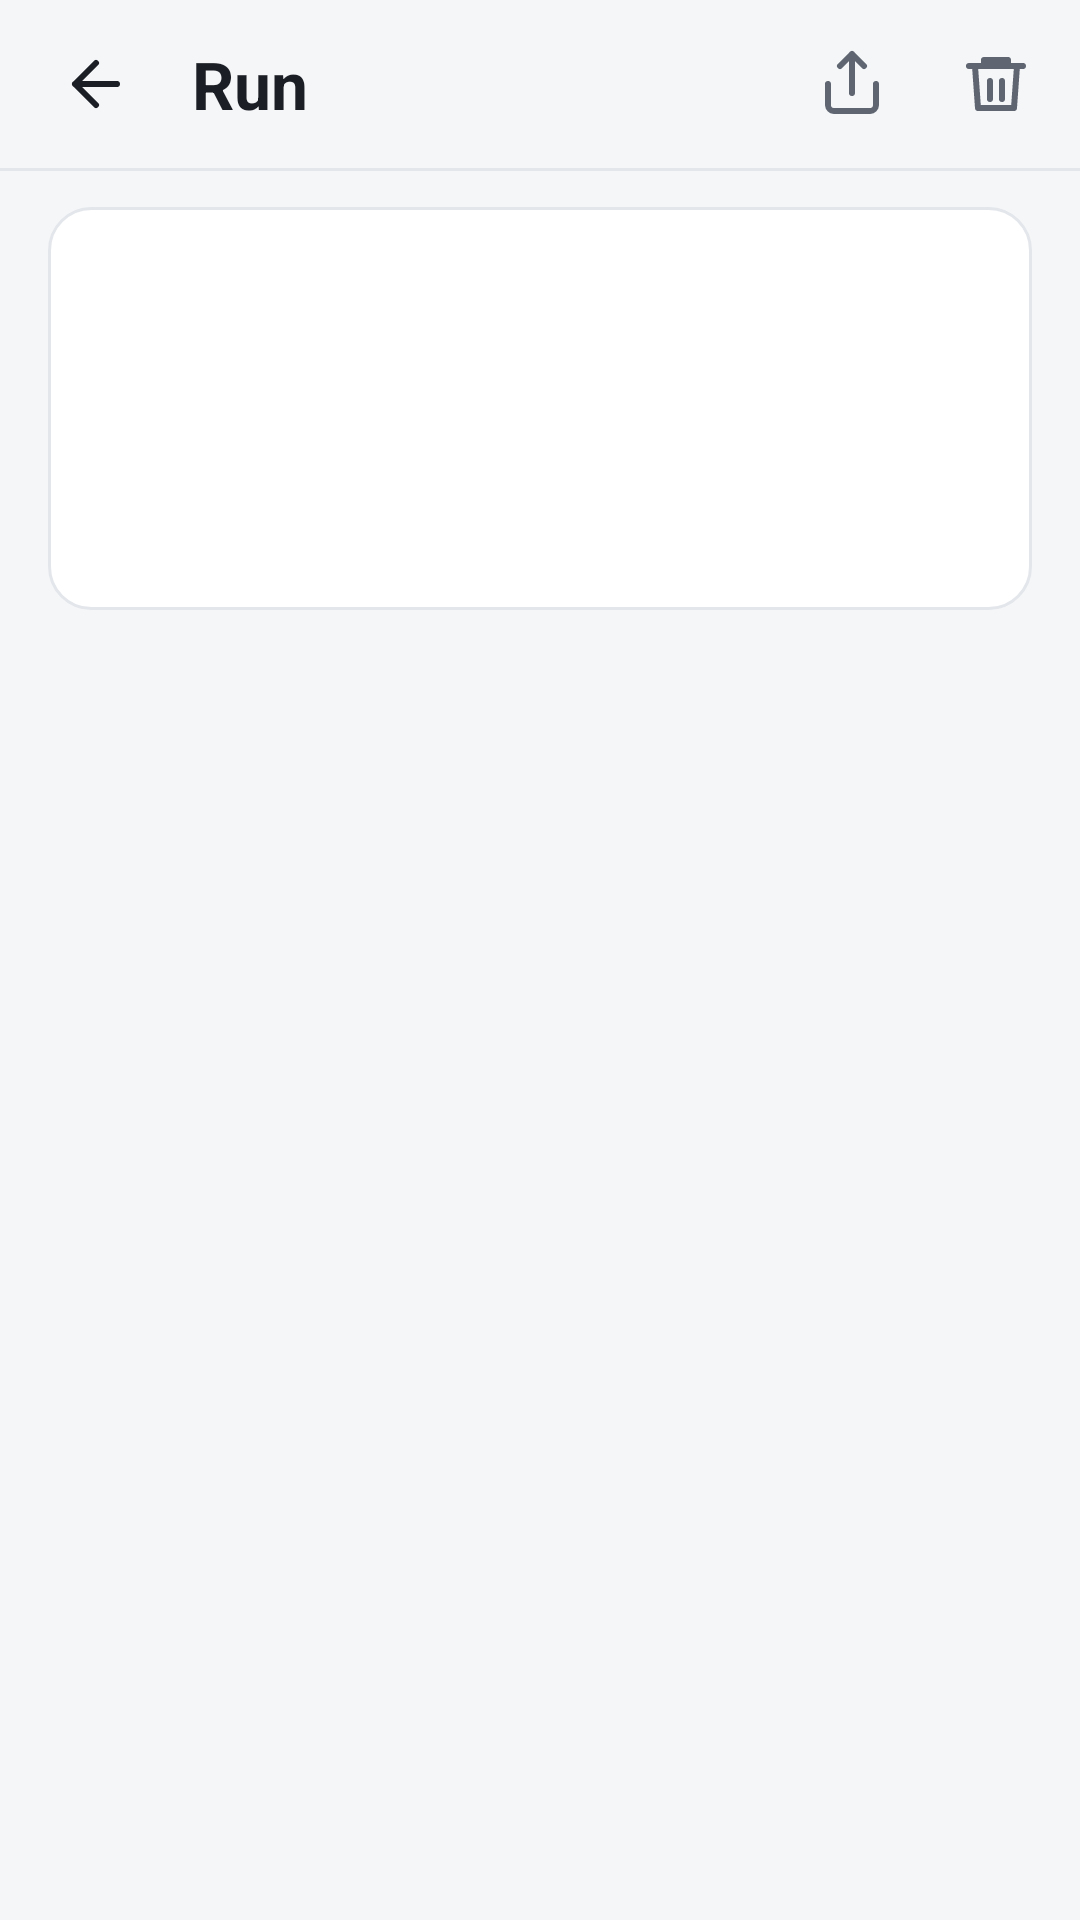

Named icons in this screenshot (1080*1920) and their bounding boxes, (x1, y1, x2, y2):
Back: (72, 60, 120, 108)
Move to trash: (966, 57, 1026, 111)
Share report: (825, 51, 879, 114)
